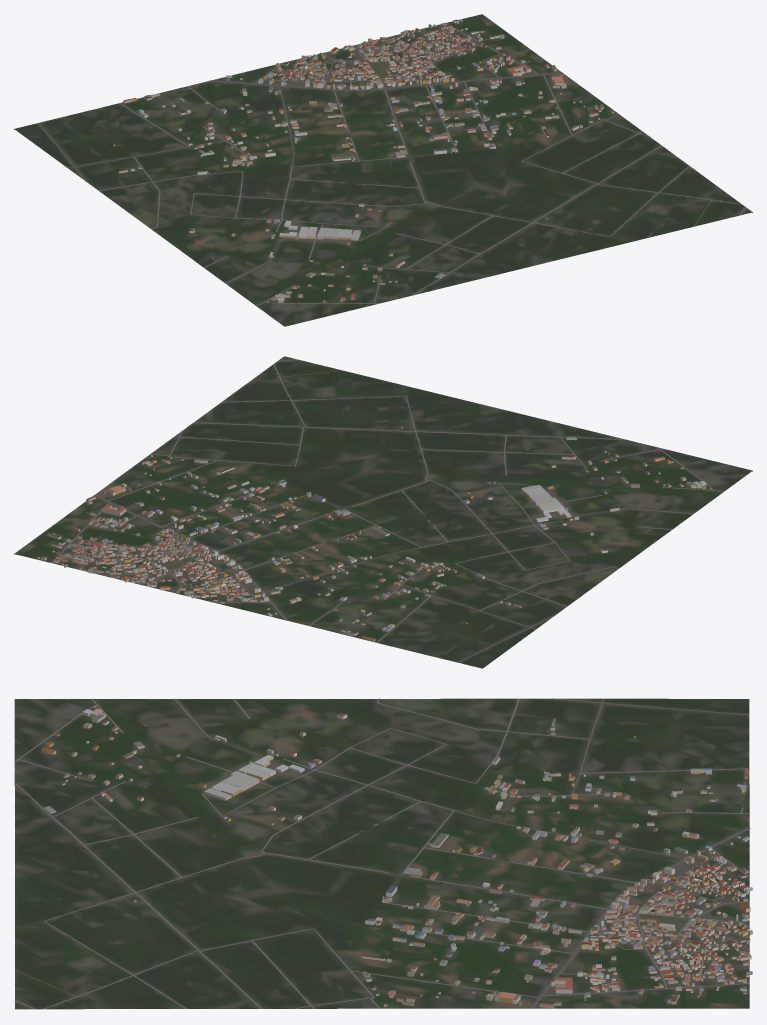
3 views of the same model, one above another, from view 1: azimuth 30°, elevation 25°; view 2: azimuth 150°, elevation 25°; view 3: azimuth 270°, elevation 25° (orthographic). The views are drawn at different scales.
Parts seen in each view (by area): view 1: ground, buildings, roads; view 2: ground, buildings, roads; view 3: ground, buildings, roads.
Part boxes in pixels (<box>): ground: <box>14,14,752,326</box>; buildings: <box>113,19,614,302</box>; roads: <box>38,24,745,305</box>; ground: <box>14,356,752,668</box>; buildings: <box>36,426,711,641</box>; roads: <box>52,359,724,662</box>; ground: <box>14,698,749,1009</box>; buildings: <box>41,705,752,1008</box>; roads: <box>14,698,750,1009</box>.
Bounding box in the file's own units: 1405 × 15.89 × 1410.
